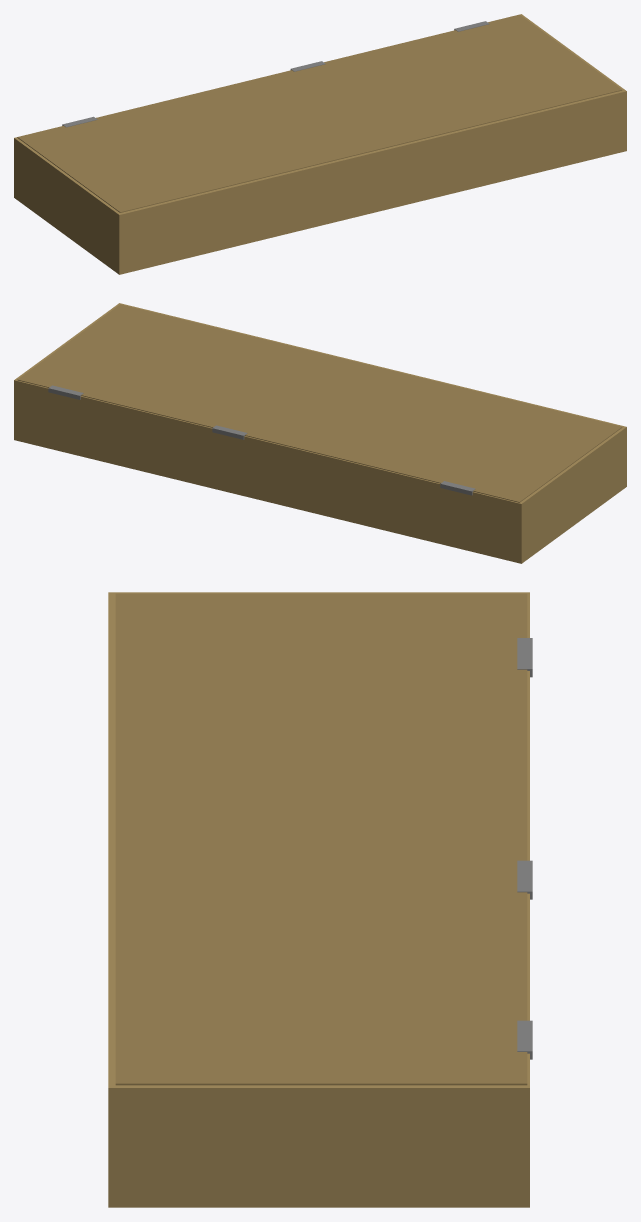
File: cartridges13.fbx
The picture shows the model from 3 angles, top to bottom: view 1: azimuth 30°, elevation 25°; view 2: azimuth 150°, elevation 25°; view 3: azimuth 270°, elevation 25°; orthographic projection. The views are drawn at different scales.
Visible parts, largest first — view 1: Cube_6, Boole_4; view 2: Cube_6, Boole_4; view 3: Cube_6, Boole_4.
Part boxes in pixels (box(x1,y1,x2,y2)): Cube_6: box(17, 14, 622, 212); Boole_4: box(14, 14, 626, 274); Cube_6: box(17, 304, 622, 502); Boole_4: box(14, 303, 626, 563); Cube_6: box(115, 593, 532, 1085); Boole_4: box(108, 592, 529, 1207).
Size of the model in its own units: 208 by 24.56 by 75.24.
